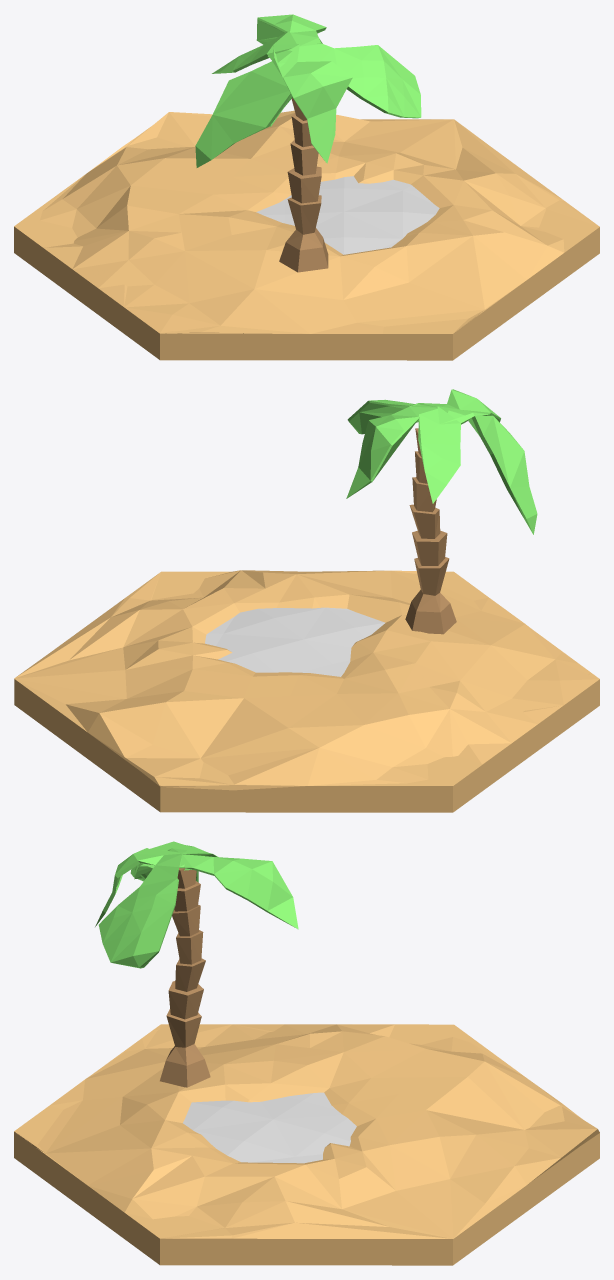
The model's file is desert.fbx.
3 renders of one model, top to bottom at view 1: azimuth 30°, elevation 25°; view 2: azimuth 150°, elevation 25°; view 3: azimuth 270°, elevation 25°, orthographic.
Parts seen in each view (by area): view 1: Cylinder; view 2: Cylinder; view 3: Cylinder.
Part boxes in pixels (left/top/right/bottom): Cylinder: left=14, top=14, right=599, bottom=360; Cylinder: left=14, top=389, right=599, bottom=812; Cylinder: left=14, top=841, right=599, bottom=1265.
Bounding box in the file's own units: 2 × 1.74 × 1.03.
